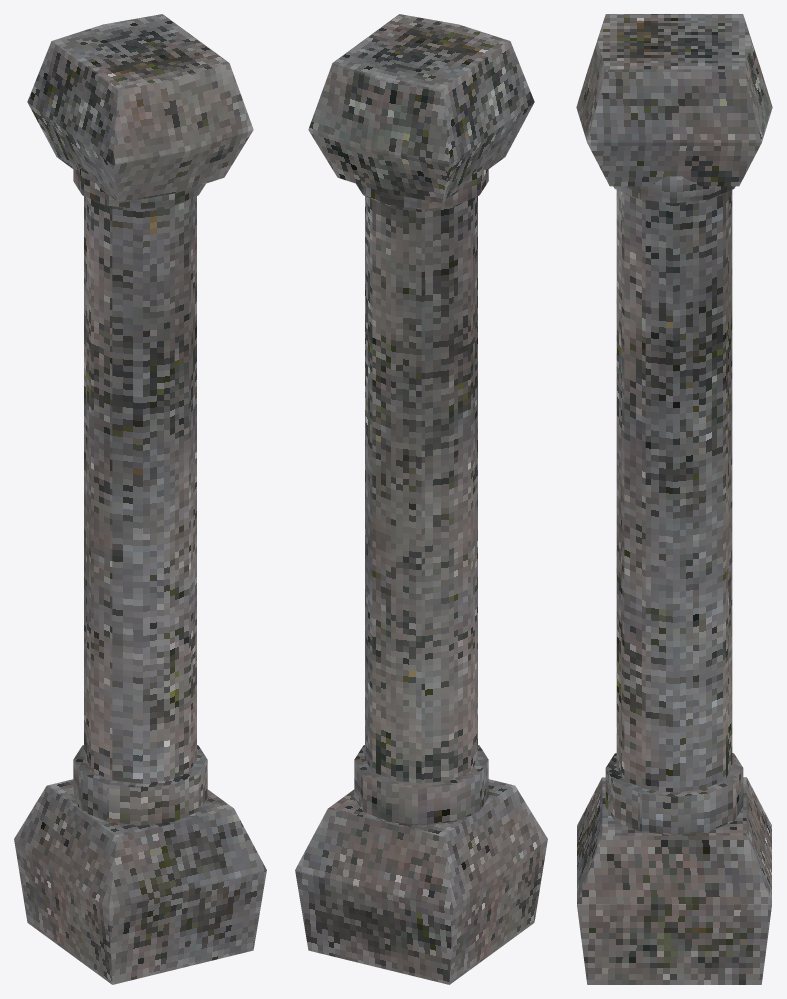
The model's file is Column_3.gltf.
3 views of the same model, side by side, from view 1: azimuth 30°, elevation 25°; view 2: azimuth 150°, elevation 25°; view 3: azimuth 270°, elevation 25° (orthographic). The views are drawn at different scales.
Visible parts, largest first — view 1: Column_3; view 2: Column_3; view 3: Column_3.
Boxes of the visible parts, <box> form: Column_3: <box>14,14,266,984</box>; Column_3: <box>295,14,547,984</box>; Column_3: <box>576,14,772,984</box>.
Bounding box in the file's own units: 1.64 × 8.79 × 1.72.
Materials: 1 (1 with a texture image).
